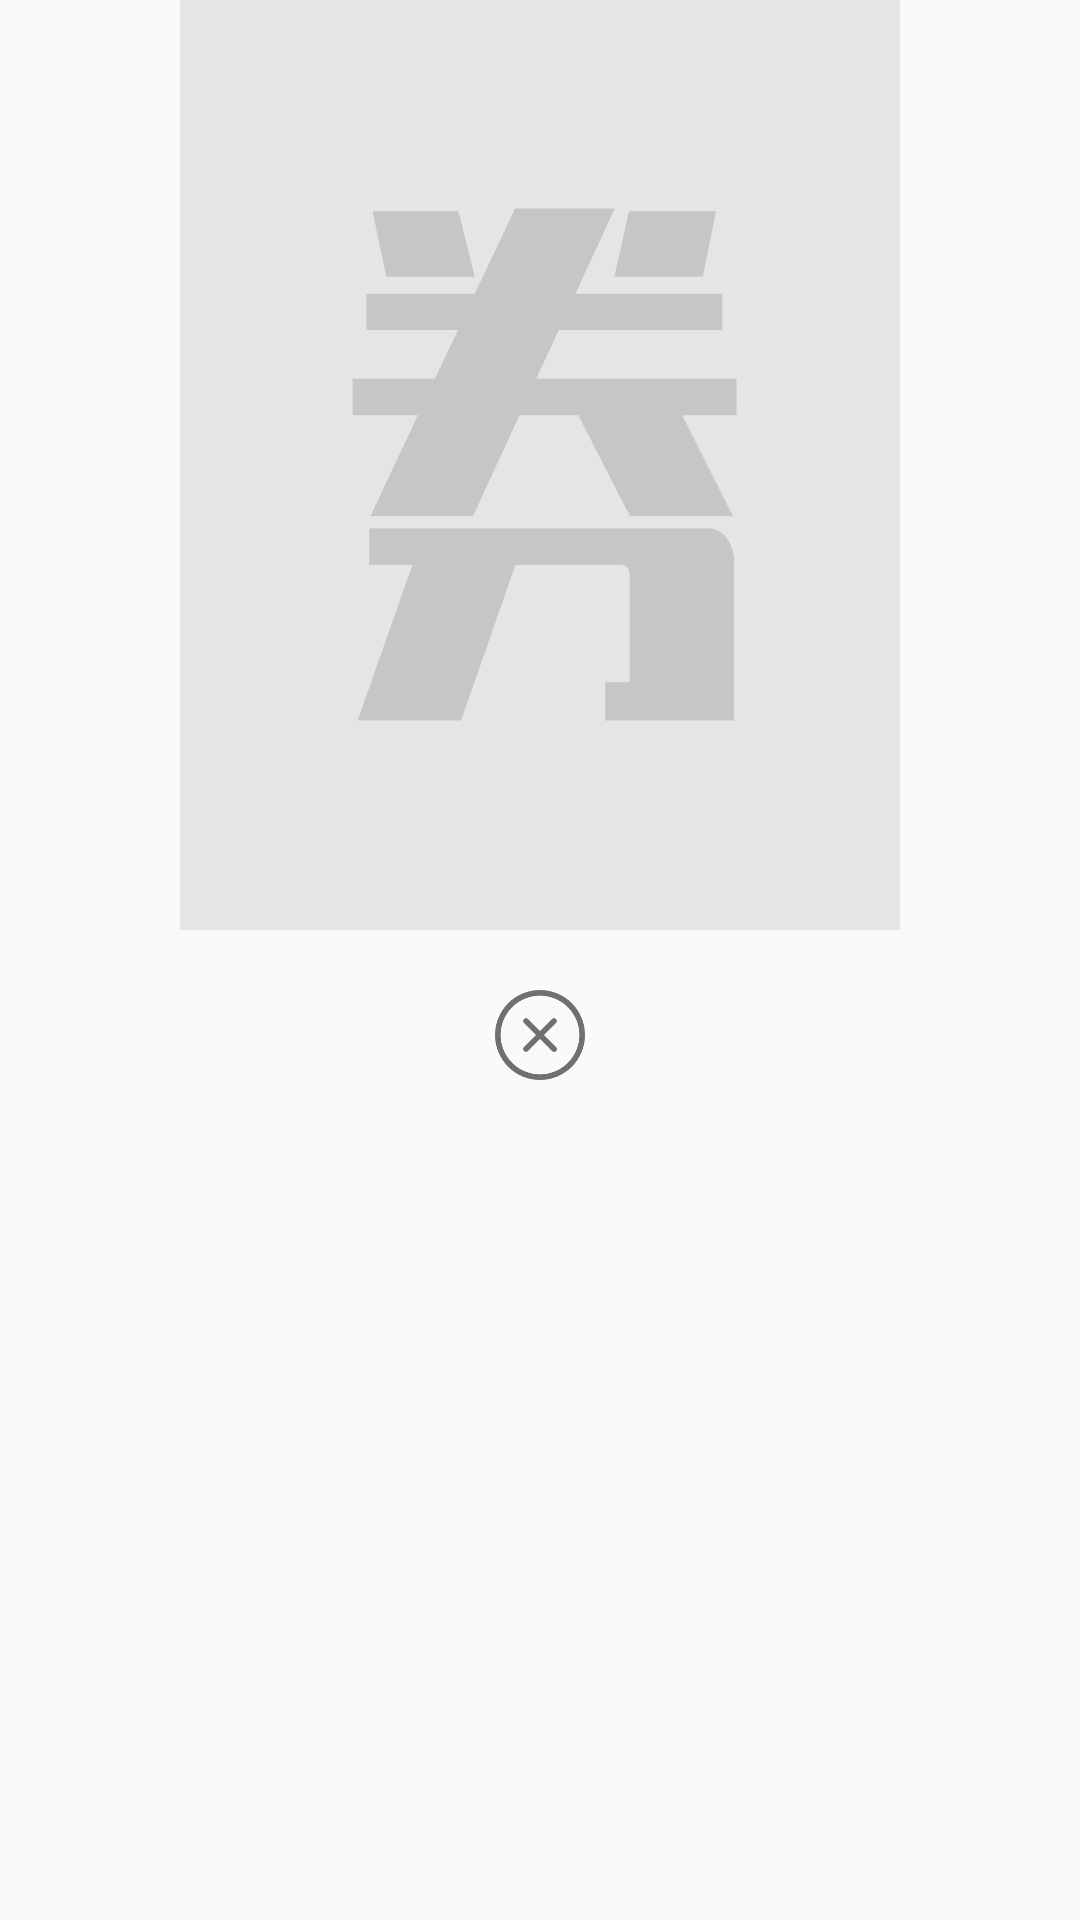

Where icons sit on this 1080px x 1920px app screen, as (x1, y1, x2, y2):
cancel: (495, 990, 585, 1080)
